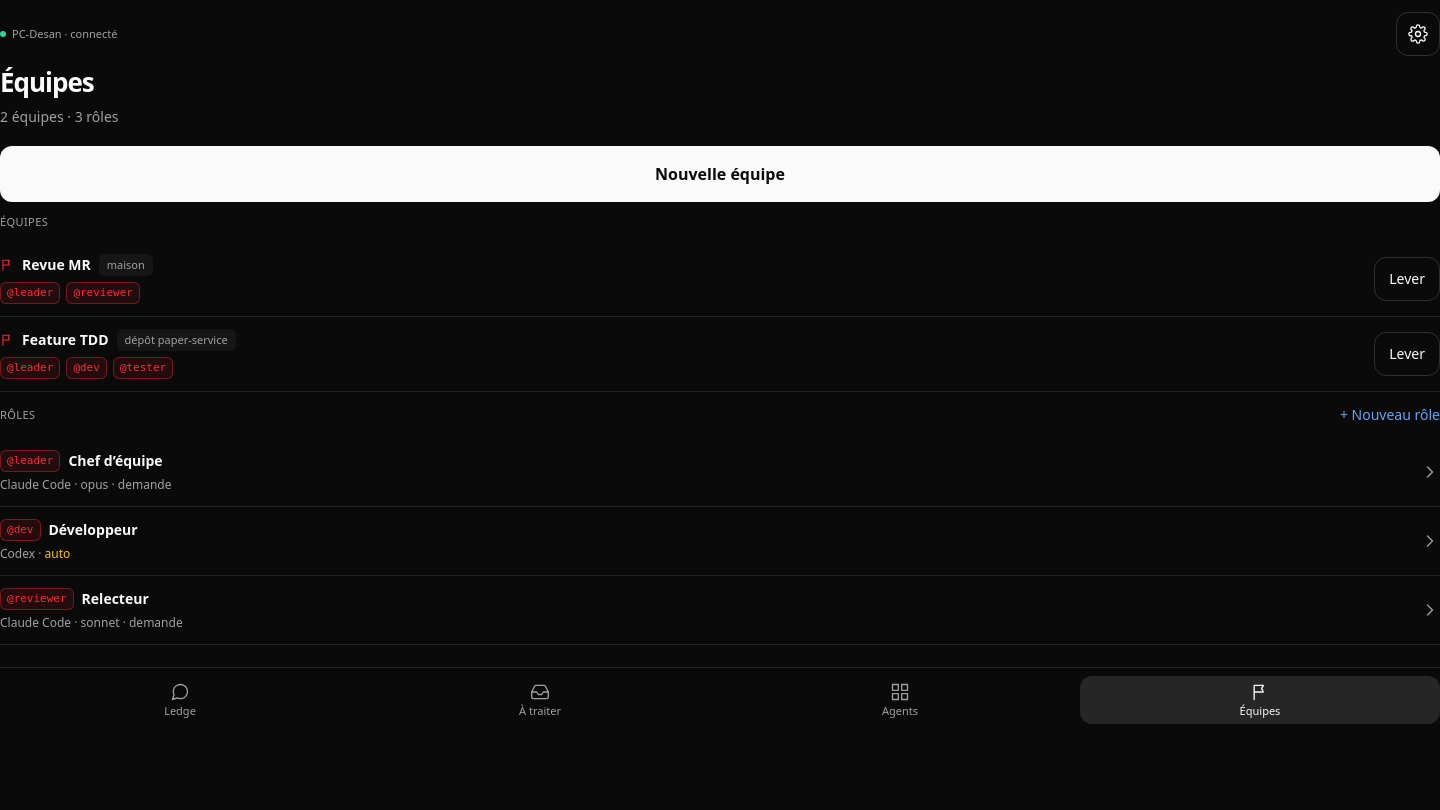
Test: the Équipes tab › keeps the dialog open and says why when the launch is refused, or not confirmed
The width and height of the screenshot is (1440, 810).
Click the button with aria-label "Lever Feature TDD" at (1407, 354), box [1374,332,1439,376]
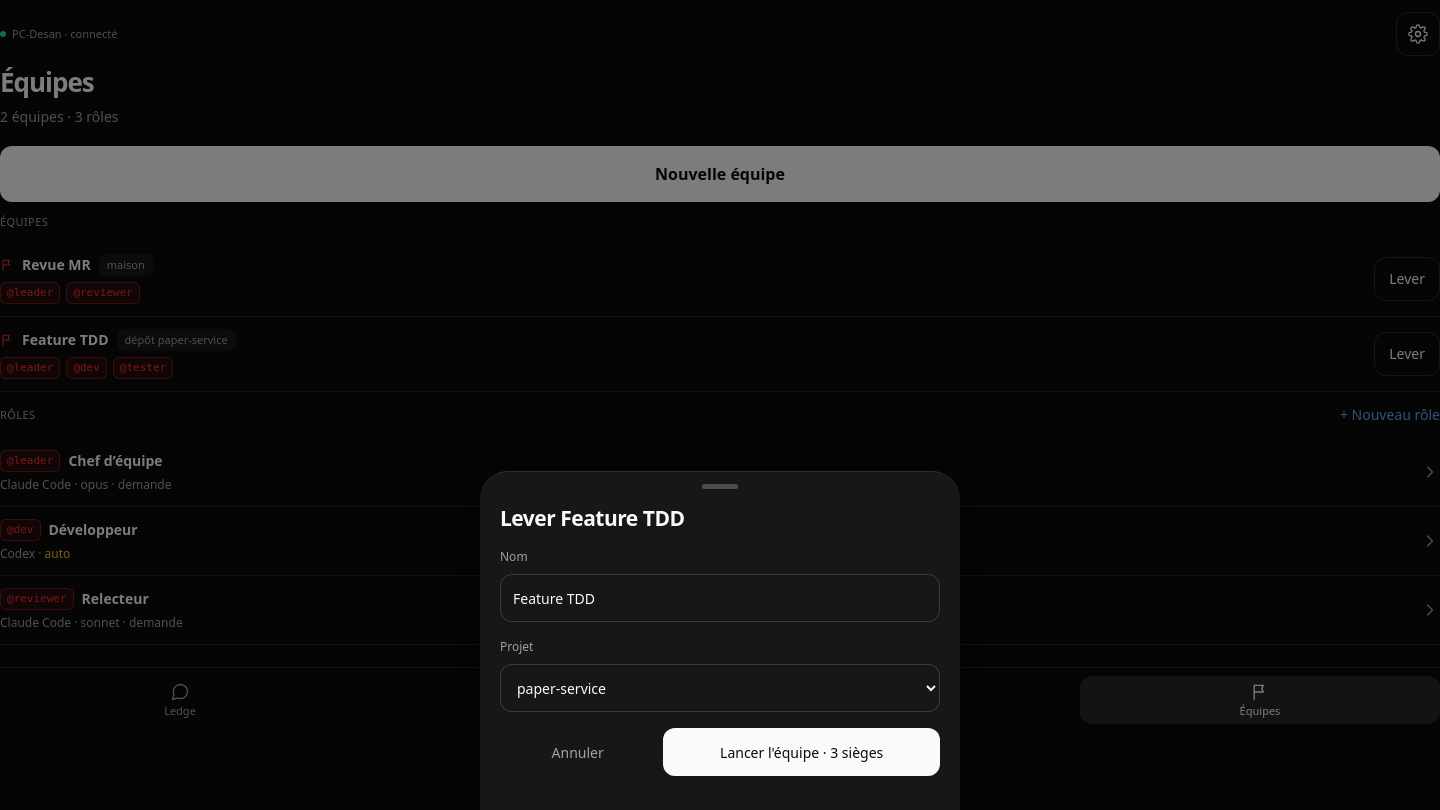
Click the button "Lancer l'équipe · 3 sièges" at (802, 752), box [663,728,940,776]
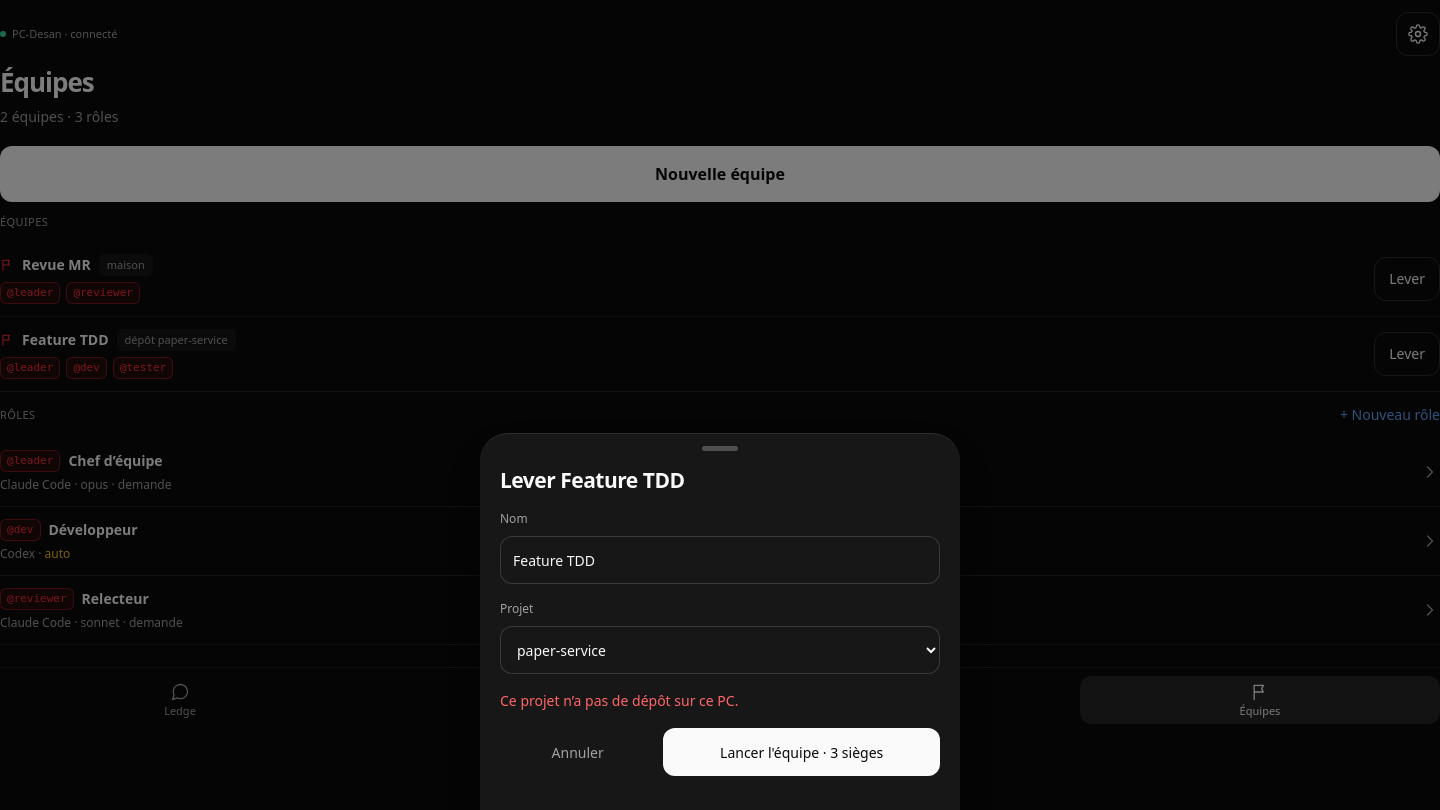
Result: the message reads "Ce projet n’a pas de dépôt sur ce PC." at [500,691,738,710]
Click the button "Lancer l'équipe · 3 sièges" at (802, 752), box [663,728,940,776]
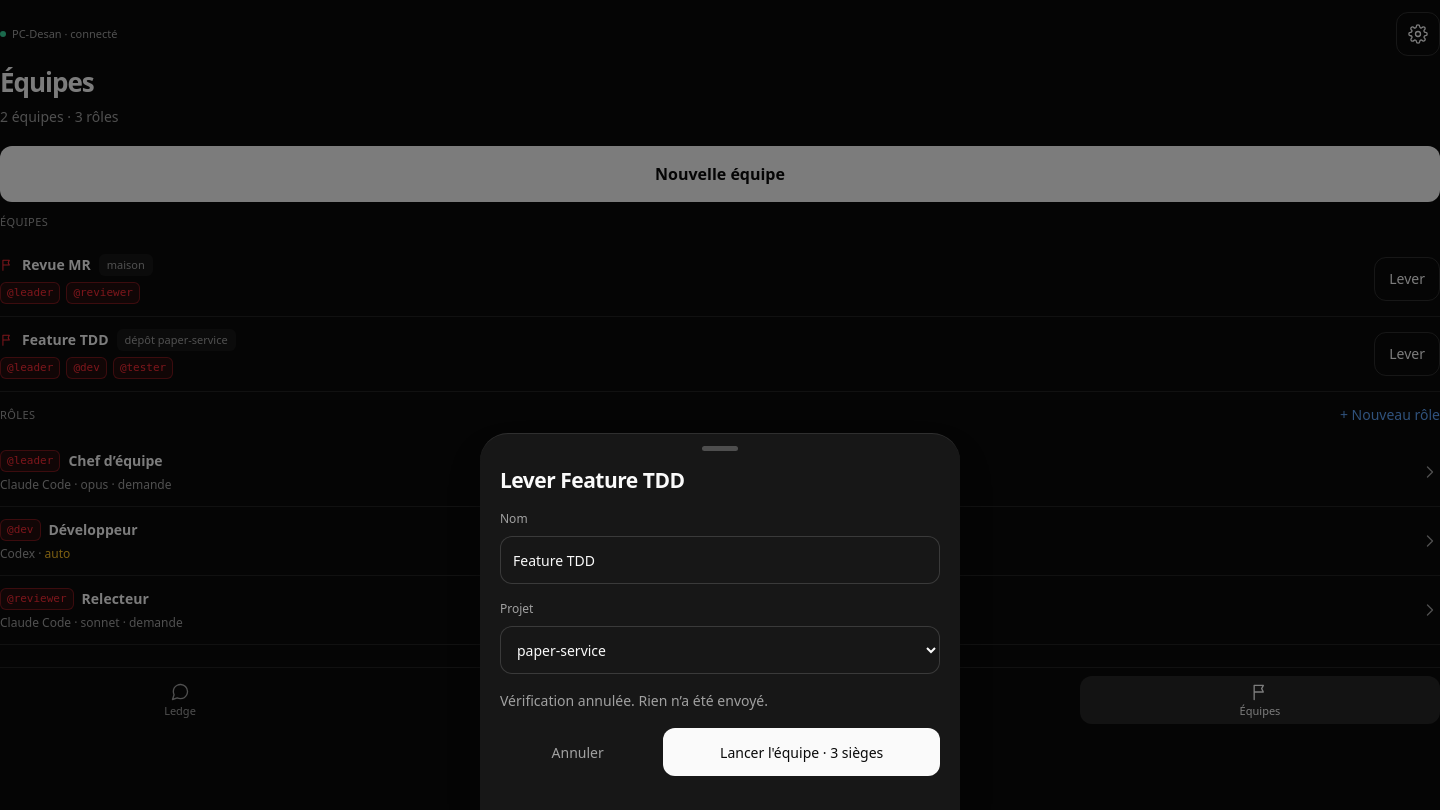
Result: the button "Lancer l'équipe · 3 sièges" is enabled at [663,728,940,776]
Result: the message reads "Vérification annulée. Rien n’a été envoyé." at [500,691,768,710]
